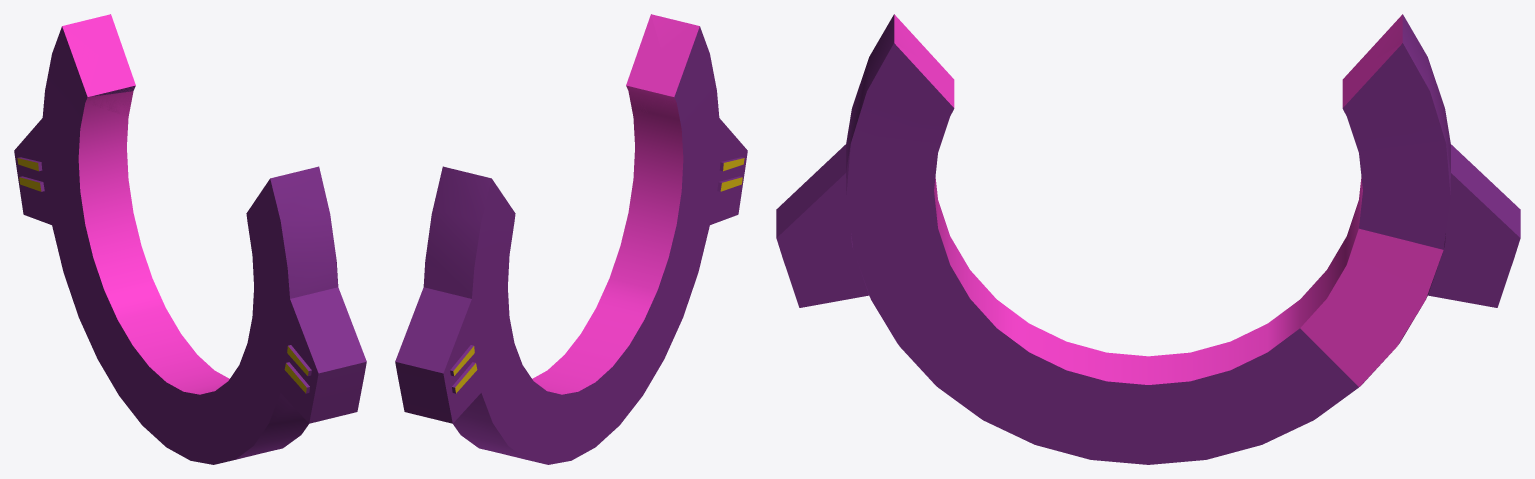
Rendered from arch-01.glb.
The picture shows the model from 3 angles, left to right: view 1: azimuth 30°, elevation 25°; view 2: azimuth 150°, elevation 25°; view 3: azimuth 270°, elevation 25°; orthographic projection. The views are drawn at different scales.
Visible parts, largest first — view 1: arch-01; view 2: arch-01; view 3: arch-01.
Boxes of the visible parts, x1,y1,x2,y2 form: arch-01: [14, 14, 366, 464]; arch-01: [395, 14, 747, 464]; arch-01: [776, 14, 1520, 464].
Size of the model in its own units: 1.6 by 10.07 by 16.09.
